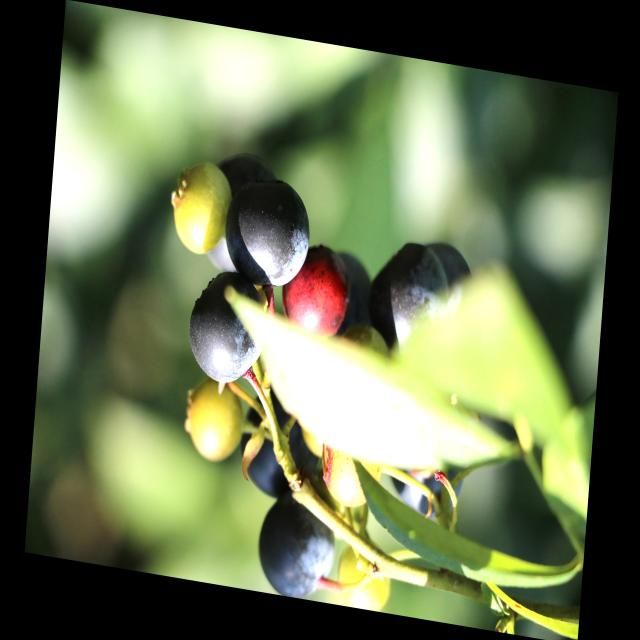blueberry: (366, 230, 453, 362), (185, 264, 272, 391), (222, 171, 313, 291), (234, 391, 324, 505), (254, 495, 338, 601)
blueberry-halfripe: (278, 238, 350, 342)
blueberry-unripe: (167, 154, 235, 261), (180, 377, 244, 472), (334, 532, 400, 612), (320, 442, 387, 513)
